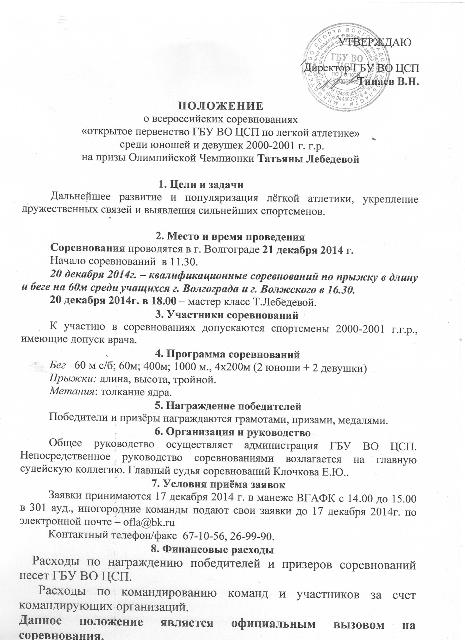stamp: (302, 24, 392, 110)
